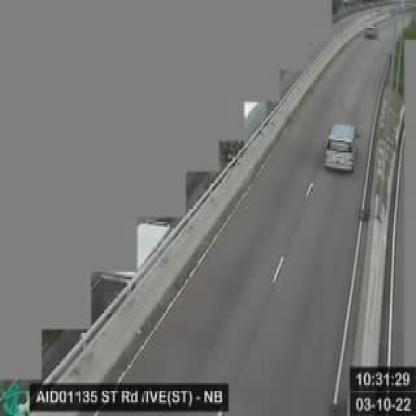Car: (322, 119, 360, 172)
